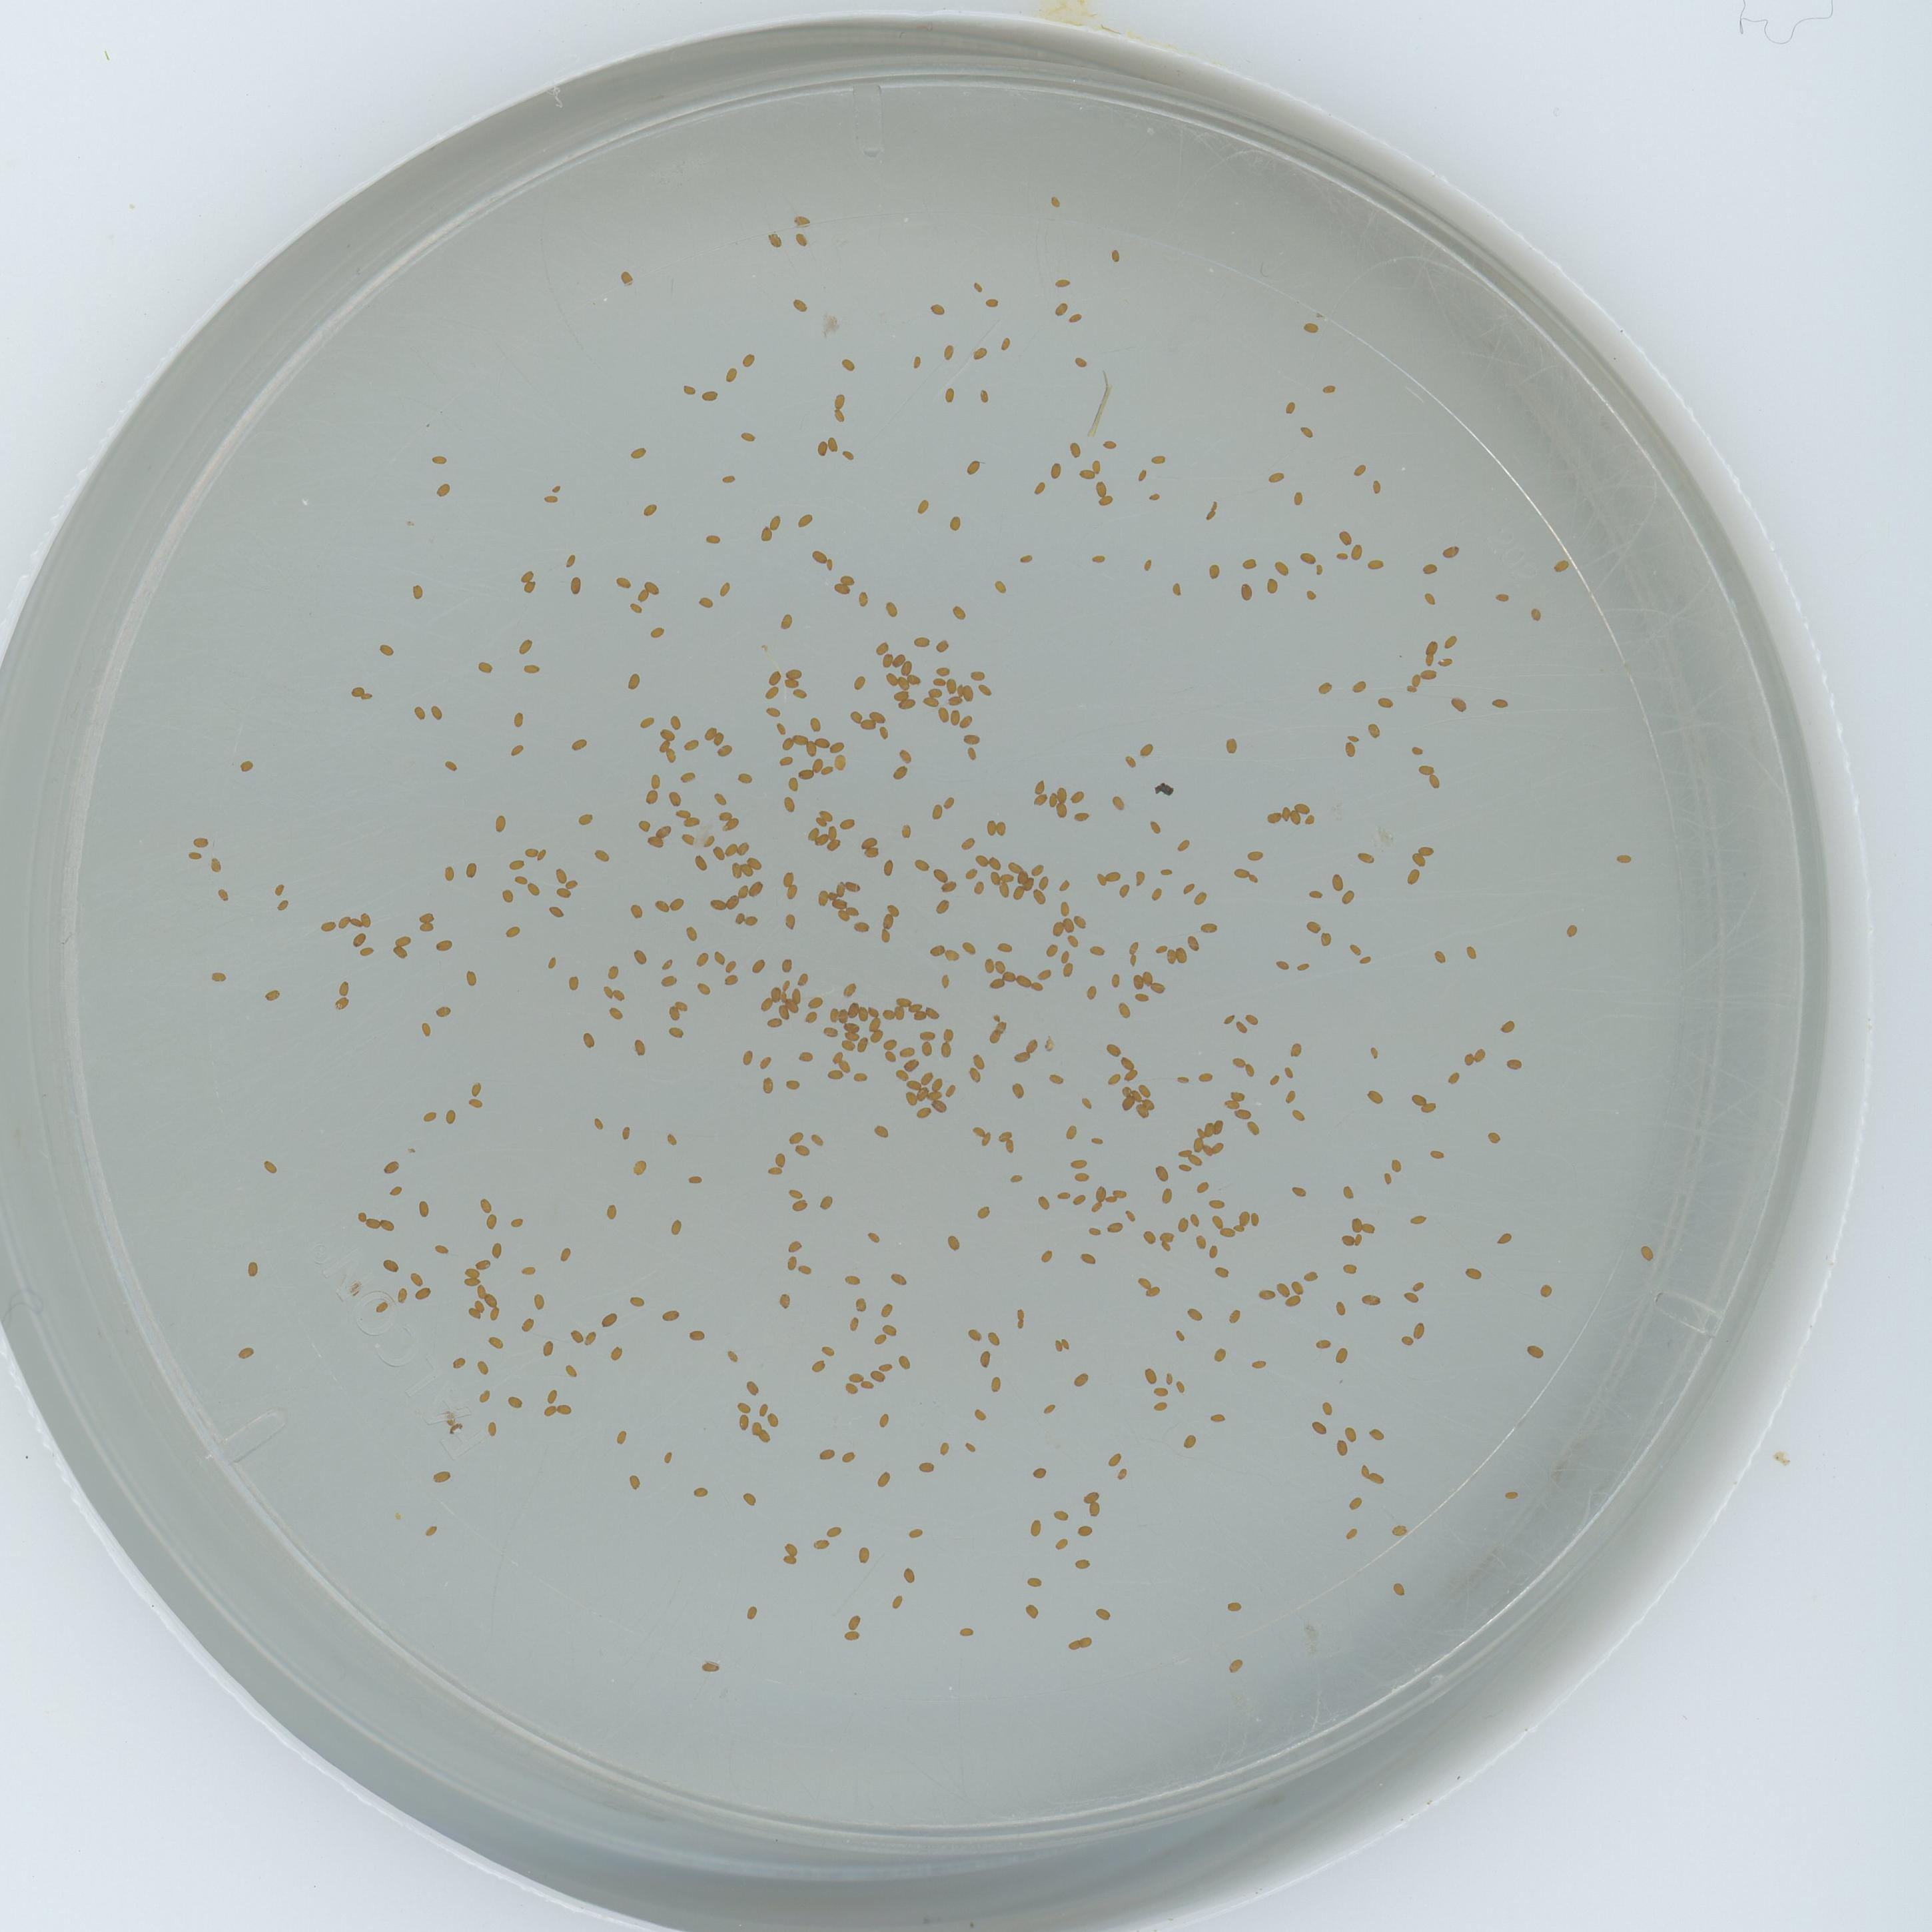seed: (847, 669, 869, 690), (1207, 1194, 1230, 1214), (748, 957, 770, 977), (1008, 1079, 1026, 1102), (600, 1307, 619, 1327), (872, 1122, 892, 1141), (817, 1192, 837, 1212), (1044, 460, 1063, 479), (1237, 582, 1256, 602), (1327, 874, 1346, 893), (971, 1053, 991, 1072), (625, 672, 646, 690), (936, 1039, 954, 1060), (1081, 1486, 1102, 1504), (1361, 1290, 1382, 1307), (1472, 1044, 1490, 1065), (1072, 1555, 1095, 1571), (796, 511, 816, 529), (637, 713, 656, 731), (566, 575, 584, 594), (350, 929, 370, 947), (759, 1076, 777, 1095), (414, 1200, 433, 1217), (662, 1304, 681, 1322), (380, 1254, 400, 1272), (945, 1233, 962, 1253), (432, 1468, 451, 1486), (961, 729, 980, 747), (1106, 971, 1123, 991), (1527, 1341, 1545, 1361), (1407, 1208, 1426, 1226), (996, 1125, 1014, 1145), (1173, 1217, 1191, 1237), (1001, 1136, 1019, 1155), (508, 856, 525, 874), (913, 856, 931, 874), (462, 862, 479, 879), (435, 934, 453, 952), (692, 855, 709, 872), (543, 954, 561, 971), (883, 600, 901, 617), (517, 637, 534, 655), (492, 814, 510, 832), (934, 897, 952, 915), (617, 269, 635, 287), (722, 957, 740, 975), (237, 1343, 255, 1361), (667, 1217, 685, 1235), (856, 1546, 874, 1564), (487, 1332, 504, 1350), (580, 1028, 598, 1046), (1030, 479, 1047, 497), (1355, 849, 1373, 867), (1136, 740, 1154, 757), (1263, 577, 1281, 594), (1304, 916, 1322, 934), (1171, 945, 1189, 962), (1562, 922, 1580, 939), (1332, 1438, 1350, 1456), (1185, 1304, 1203, 1322), (1338, 1230, 1355, 1247), (1445, 1070, 1463, 1088), (1366, 1086, 1384, 1104), (1083, 984, 1100, 1001), (977, 1348, 994, 1366), (1104, 1040, 1122, 1058), (1072, 1369, 1090, 1387), (1463, 1263, 1481, 1281), (1332, 1346, 1350, 1364), (1152, 1162, 1169, 1180), (1281, 1086, 1299, 1104), (1116, 1054, 1134, 1072), (1504, 1486, 1522, 1504), (869, 708, 888, 724), (911, 633, 931, 649), (918, 1039, 934, 1058), (890, 1269, 909, 1284), (412, 1284, 432, 1300), (899, 1566, 918, 1582), (957, 1626, 977, 1642), (1244, 847, 1263, 863), (1074, 1522, 1093, 1537), (1085, 1502, 1104, 1518), (1062, 1122, 1077, 1141), (977, 1131, 993, 1150), (1138, 1079, 1152, 1100), (616, 575, 633, 591), (435, 481, 453, 497), (947, 515, 964, 531), (681, 380, 699, 396), (630, 446, 648, 462), (593, 847, 610, 863), (504, 924, 522, 939), (931, 867, 948, 883), (669, 789, 685, 807), (704, 531, 722, 547), (642, 501, 660, 517), (812, 439, 828, 456), (418, 920, 435, 936), (476, 658, 494, 674), (518, 566, 536, 582), (897, 748, 915, 764), (697, 594, 715, 610), (679, 832, 697, 847), (807, 717, 824, 732), (879, 862, 897, 878), (628, 902, 646, 918), (212, 886, 230, 902), (840, 816, 858, 832), (786, 777, 803, 793), (191, 833, 209, 849), (724, 366, 741, 382), (430, 451, 448, 467), (736, 770, 754, 786), (508, 741, 525, 757), (395, 931, 412, 947), (810, 547, 828, 563), (932, 637, 950, 653), (793, 295, 810, 311), (782, 796, 800, 812), (499, 888, 517, 904), (548, 904, 566, 920), (892, 764, 909, 780), (571, 736, 587, 754), (357, 909, 373, 927), (632, 947, 649, 962), (679, 770, 697, 786), (409, 582, 425, 600), (656, 823, 674, 839), (418, 908, 435, 924), (768, 669, 784, 686), (840, 356, 858, 372), (764, 704, 782, 720), (683, 736, 701, 752), (833, 755, 851, 771), (878, 929, 895, 945), (766, 232, 784, 248), (862, 833, 879, 849), (642, 791, 660, 807), (787, 1125, 805, 1141), (607, 1003, 625, 1019), (876, 1470, 893, 1486), (393, 1284, 409, 1302), (840, 1449, 858, 1465), (918, 1458, 936, 1474), (626, 1474, 644, 1490), (506, 1392, 524, 1408), (807, 993, 824, 1008), (695, 980, 713, 996), (449, 1353, 467, 1369), (543, 1387, 561, 1403), (568, 1327, 586, 1343), (798, 1049, 816, 1065), (879, 1300, 895, 1318), (603, 1203, 621, 1219), (773, 1150, 791, 1166), (826, 1522, 844, 1537), (478, 1194, 494, 1212), (474, 1359, 492, 1375), (244, 1260, 262, 1276), (531, 1293, 548, 1309), (814, 1537, 832, 1553), (421, 1106, 439, 1122), (740, 1047, 755, 1065), (540, 1339, 557, 1355), (819, 1445, 837, 1461), (632, 1037, 649, 1053), (688, 1325, 706, 1341), (794, 1141, 812, 1157), (520, 1315, 536, 1332), (462, 970, 479, 985), (904, 1058, 922, 1074), (474, 1254, 492, 1270), (741, 1490, 757, 1507), (759, 1051, 775, 1069), (260, 1157, 278, 1173), (382, 1157, 400, 1173), (386, 1182, 403, 1198), (363, 1214, 380, 1230), (1267, 469, 1284, 485), (970, 879, 987, 895), (1051, 299, 1069, 315), (1552, 559, 1569, 575), (1442, 543, 1460, 559), (1339, 890, 1357, 906), (1336, 529, 1353, 545), (1299, 548, 1316, 564), (1093, 479, 1109, 497), (1200, 918, 1217, 934), (1070, 354, 1088, 370), (1405, 870, 1422, 886), (1376, 694, 1394, 709), (1191, 892, 1208, 908), (1421, 559, 1438, 575), (1364, 722, 1382, 738), (1168, 582, 1185, 598), (1288, 490, 1306, 506), (1065, 441, 1083, 456), (1293, 800, 1311, 816), (1030, 793, 1047, 809), (1449, 695, 1467, 711), (1272, 559, 1290, 575), (1088, 456, 1104, 474), (1341, 741, 1357, 759), (1417, 761, 1435, 777), (1316, 931, 1334, 947), (1493, 587, 1511, 603), (1345, 939, 1362, 955), (1067, 789, 1085, 805), (1300, 812, 1318, 828), (1056, 947, 1072, 964), (1040, 941, 1058, 957), (1184, 934, 1201, 950), (1272, 957, 1290, 973), (1286, 1040, 1304, 1056), (1212, 1263, 1230, 1279), (1028, 1463, 1046, 1479), (1024, 1573, 1042, 1589), (1389, 1582, 1407, 1598), (1368, 1426, 1385, 1442), (1309, 1419, 1327, 1435), (1069, 1155, 1086, 1171), (1537, 1283, 1555, 1299), (1387, 1155, 1405, 1171), (1077, 1249, 1095, 1265), (1115, 1001, 1132, 1017), (1157, 1187, 1175, 1203), (1037, 1247, 1054, 1263), (1302, 1267, 1320, 1283), (1046, 1069, 1063, 1085), (1104, 1451, 1122, 1467), (1343, 1525, 1361, 1541), (1343, 1426, 1361, 1442), (1346, 1495, 1364, 1511), (1093, 1605, 1111, 1621), (1226, 1307, 1244, 1323), (1141, 1366, 1157, 1384), (1152, 1384, 1168, 1401), (987, 1375, 1005, 1391), (1085, 1223, 1102, 1238), (1315, 1334, 1332, 1350), (1192, 1233, 1208, 1251), (1014, 1047, 1031, 1063), (1228, 1088, 1246, 1104), (1024, 1520, 1042, 1536), (1224, 1598, 1242, 1614), (1150, 1398, 1168, 1414), (1157, 1228, 1175, 1244), (1187, 1154, 1205, 1169), (1391, 1522, 1408, 1537), (1228, 1656, 1244, 1674), (1008, 1169, 1026, 1185), (1638, 1244, 1656, 1260), (789, 686, 809, 701), (784, 665, 803, 679), (948, 708, 962, 727), (1049, 920, 1063, 939), (955, 715, 975, 729), (1408, 1090, 1428, 1104), (1131, 973, 1145, 993), (1079, 1635, 1099, 1649), (1217, 1224, 1237, 1238), (715, 810, 736, 823), (1143, 970, 1155, 991), (929, 941, 945, 957), (669, 897, 685, 913), (722, 471, 738, 487), (929, 803, 945, 819), (899, 824, 915, 840), (349, 683, 364, 699), (915, 497, 931, 513), (428, 704, 444, 720), (764, 686, 780, 702), (826, 435, 842, 451), (934, 708, 950, 724), (648, 773, 663, 789), (637, 817, 653, 833), (709, 897, 725, 913), (379, 642, 395, 658), (780, 614, 796, 630), (950, 603, 966, 619), (649, 623, 665, 639), (318, 918, 334, 934), (876, 639, 892, 655), (886, 901, 902, 916), (669, 715, 685, 731), (856, 591, 872, 607), (745, 911, 761, 927), (750, 881, 766, 897), (929, 299, 945, 315), (941, 794, 957, 810), (410, 704, 426, 720), (885, 672, 901, 688), (816, 892, 832, 908), (441, 867, 456, 883), (207, 858, 223, 874), (832, 393, 847, 409), (941, 879, 957, 895), (524, 660, 540, 676), (780, 872, 796, 888), (552, 867, 568, 883), (579, 812, 594, 828), (510, 711, 525, 727), (646, 579, 662, 594), (849, 708, 865, 724), (522, 846, 538, 862), (939, 343, 955, 359), (186, 849, 202, 865), (748, 855, 764, 870), (635, 587, 651, 603), (271, 883, 287, 899), (786, 886, 801, 902), (878, 725, 893, 741), (794, 230, 810, 246), (945, 947, 961, 962), (237, 757, 253, 773), (778, 736, 794, 752), (702, 833, 718, 849), (941, 386, 957, 402), (883, 1049, 899, 1065), (487, 1306, 502, 1322), (925, 1005, 941, 1021), (828, 1065, 844, 1081), (853, 1069, 869, 1085), (847, 1614, 863, 1629), (759, 996, 775, 1012), (334, 980, 350, 996), (853, 1295, 869, 1311), (736, 1398, 752, 1414), (890, 1594, 906, 1610), (694, 1483, 709, 1499), (418, 1021, 433, 1037), (557, 1246, 573, 1261), (764, 1412, 780, 1428), (563, 1362, 579, 1378), (612, 985, 628, 1001), (669, 1023, 685, 1039), (745, 1378, 761, 1394), (209, 968, 225, 984), (787, 1237, 803, 1253), (897, 1355, 913, 1371), (600, 982, 616, 998), (483, 1212, 499, 1228), (469, 1079, 485, 1095), (846, 1270, 862, 1286), (409, 1270, 425, 1286), (483, 1421, 499, 1437), (380, 1215, 396, 1231), (605, 966, 621, 982), (566, 975, 582, 991), (755, 1403, 771, 1419), (867, 1228, 883, 1244), (435, 1001, 451, 1017), (584, 1330, 600, 1346), (796, 971, 812, 987), (736, 1414, 752, 1430), (541, 1403, 557, 1419), (617, 1123, 633, 1139), (786, 1254, 801, 1270), (614, 1430, 630, 1445), (609, 1345, 625, 1361), (787, 1187, 803, 1203), (702, 1658, 718, 1674), (476, 1387, 492, 1403), (777, 1292, 793, 1307), (488, 1242, 504, 1258), (632, 1157, 648, 1173), (674, 998, 690, 1014), (1368, 478, 1384, 494), (1348, 543, 1364, 559), (1368, 556, 1384, 571), (1104, 869, 1120, 885), (1352, 462, 1368, 478), (1233, 865, 1249, 881), (966, 458, 982, 474), (1088, 941, 1104, 957), (1442, 635, 1458, 651), (1306, 886, 1322, 902), (1028, 862, 1044, 878), (1431, 947, 1447, 962), (1242, 556, 1258, 571), (1316, 679, 1332, 695), (994, 883, 1010, 899), (970, 667, 985, 683), (1223, 738, 1238, 754), (996, 938, 1012, 954), (1134, 467, 1150, 483), (1146, 886, 1162, 902), (1145, 819, 1161, 835), (1352, 678, 1368, 694), (1109, 796, 1125, 812), (1131, 870, 1146, 886), (987, 855, 1003, 870), (1426, 775, 1442, 791), (1106, 248, 1122, 264), (1421, 589, 1437, 605), (1053, 787, 1069, 803), (1053, 879, 1069, 895), (1054, 901, 1070, 916), (1617, 851, 1633, 867), (1463, 943, 1479, 959), (1194, 1178, 1210, 1194), (1412, 1320, 1428, 1336), (1023, 1603, 1039, 1619), (1341, 1260, 1357, 1276), (1053, 1506, 1069, 1522), (1403, 1290, 1419, 1306), (1023, 1037, 1039, 1053), (1123, 1065, 1139, 1081), (1208, 1410, 1224, 1426), (1106, 1069, 1122, 1085), (1212, 1346, 1228, 1362), (1500, 1017, 1516, 1033), (1136, 1272, 1152, 1288), (1208, 1214, 1224, 1230), (1290, 1106, 1306, 1122), (1274, 1279, 1290, 1295), (1332, 1300, 1348, 1316), (1290, 1182, 1306, 1198), (1486, 1129, 1502, 1145), (1070, 1191, 1086, 1207), (1249, 1355, 1265, 1371), (968, 1067, 984, 1083), (1265, 1070, 1281, 1086), (975, 1203, 991, 1219), (1410, 1276, 1426, 1292), (966, 1325, 982, 1341), (1506, 1053, 1522, 1069), (1378, 1169, 1394, 1185), (1230, 1053, 1246, 1069), (1120, 1207, 1136, 1223), (1212, 1120, 1228, 1136), (1180, 1433, 1196, 1449), (987, 1030, 1003, 1046), (1012, 1304, 1028, 1320), (1012, 1316, 1028, 1332), (1120, 1099, 1136, 1115), (869, 1030, 885, 1046), (1047, 195, 1063, 211), (511, 874, 529, 888), (525, 885, 543, 899), (711, 791, 729, 805), (391, 945, 409, 959), (844, 879, 862, 893), (830, 740, 847, 754), (855, 920, 872, 934), (694, 950, 711, 964), (835, 582, 853, 596), (835, 909, 853, 924), (357, 943, 375, 957), (780, 954, 794, 971), (724, 819, 741, 833), (784, 1077, 801, 1092), (881, 1323, 899, 1338), (803, 1008, 821, 1023), (899, 1042, 916, 1056), (855, 1037, 869, 1054), (819, 1343, 837, 1357), (844, 1629, 862, 1644), (557, 1401, 575, 1415), (872, 1332, 890, 1346), (628, 1293, 646, 1307), (791, 1198, 809, 1212), (878, 1361, 895, 1375), (686, 1173, 704, 1187), (766, 1014, 784, 1028), (920, 1069, 934, 1086), (860, 1376, 878, 1391), (464, 1265, 481, 1279), (881, 1005, 895, 1023), (1320, 382, 1338, 396), (1030, 892, 1047, 906), (1205, 564, 1223, 579), (1120, 755, 1138, 770), (1178, 881, 1196, 895), (1410, 855, 1428, 869), (1233, 1106, 1251, 1120), (1318, 1401, 1336, 1415), (1196, 1069, 1214, 1083), (1203, 1244, 1221, 1258), (1428, 1146, 1445, 1161), (1132, 989, 1150, 1003), (1072, 1168, 1090, 1182), (1368, 1470, 1385, 1484), (1284, 1293, 1302, 1307), (1104, 1219, 1122, 1233), (1495, 1230, 1513, 1244), (1148, 980, 1166, 994), (1063, 1638, 1081, 1652), (929, 674, 947, 688), (846, 1001, 858, 1021), (925, 686, 945, 699), (740, 430, 755, 444), (901, 660, 916, 674), (768, 515, 784, 529), (685, 925, 701, 939), (793, 731, 809, 745), (738, 842, 754, 856), (725, 897, 741, 911), (563, 554, 579, 568), (881, 915, 897, 929), (865, 846, 881, 860), (833, 409, 849, 423), (702, 387, 718, 402), (276, 897, 292, 911), (663, 750, 679, 764), (816, 734, 832, 748), (741, 352, 757, 366), (334, 915, 350, 929), (832, 895, 847, 909), (801, 768, 817, 782), (660, 727, 676, 741), (713, 950, 729, 964), (782, 915, 798, 929), (653, 899, 669, 913), (522, 582, 538, 596), (718, 745, 734, 759), (709, 847, 725, 862), (628, 602, 644, 616), (717, 582, 732, 596), (442, 757, 458, 771), (879, 653, 895, 667), (780, 755, 794, 771), (775, 722, 791, 736), (794, 212, 810, 226), (731, 911, 747, 925), (847, 904, 863, 918), (729, 863, 743, 879), (658, 957, 674, 971), (724, 973, 740, 987), (823, 1024, 839, 1039), (878, 1414, 893, 1428), (842, 982, 858, 996), (812, 1357, 828, 1371), (333, 996, 349, 1010), (934, 1099, 948, 1115), (520, 1263, 536, 1277), (916, 1106, 932, 1120), (945, 1083, 959, 1099), (467, 1095, 483, 1109), (830, 1049, 846, 1063), (893, 1065, 909, 1079), (442, 1108, 458, 1122), (433, 1240, 449, 1254), (893, 996, 909, 1010), (510, 1214, 525, 1228), (938, 1440, 952, 1456), (662, 1449, 678, 1463), (796, 1261, 812, 1276), (373, 1299, 389, 1313), (768, 985, 782, 1001), (589, 1115, 605, 1129), (264, 987, 280, 1001), (847, 1371, 863, 1385), (883, 1035, 899, 1049), (667, 1005, 683, 1019), (662, 973, 678, 987), (665, 1131, 679, 1146), (725, 1348, 741, 1362), (423, 1523, 439, 1537), (869, 1368, 885, 1382), (932, 1074, 947, 1090), (908, 1525, 924, 1539), (847, 1316, 863, 1330), (354, 1207, 368, 1223), (483, 1290, 499, 1304), (777, 1005, 791, 1021), (911, 1008, 927, 1023), (971, 853, 987, 867), (1304, 587, 1320, 602), (1281, 400, 1297, 414), (1072, 913, 1086, 929), (971, 345, 987, 359), (1302, 318, 1318, 333), (1116, 885, 1132, 899), (1424, 639, 1438, 655), (1175, 839, 1191, 853), (1030, 780, 1046, 794), (1063, 934, 1079, 948), (998, 336, 1014, 350), (1311, 564, 1327, 579), (984, 295, 1000, 310), (1072, 810, 1088, 824), (1077, 467, 1093, 481), (1148, 451, 1164, 465), (1054, 803, 1069, 819), (1065, 310, 1081, 324), (1417, 844, 1433, 858), (1000, 870, 1016, 885), (996, 821, 1010, 837), (1357, 952, 1373, 966), (1297, 425, 1313, 439), (1100, 437, 1116, 451), (1491, 695, 1507, 709), (1290, 810, 1304, 826), (1265, 810, 1281, 824), (993, 579, 1008, 593), (1054, 274, 1069, 290), (977, 387, 993, 402), (1092, 872, 1106, 888), (966, 747, 980, 763), (1421, 667, 1437, 681), (1152, 941, 1168, 955), (982, 819, 996, 835), (1332, 548, 1348, 563), (1422, 653, 1437, 669), (1139, 557, 1155, 571), (1007, 858, 1023, 872), (1125, 939, 1141, 954), (1527, 607, 1543, 621), (1203, 513, 1219, 527), (1290, 1279, 1306, 1293), (1051, 1536, 1067, 1550), (1233, 1021, 1249, 1035), (1221, 1012, 1237, 1026), (971, 1407, 987, 1421), (1244, 1120, 1260, 1134), (1054, 1187, 1070, 1201), (1141, 1230, 1157, 1244), (1258, 1286, 1274, 1300), (1115, 1465, 1129, 1481), (1361, 1219, 1376, 1233), (1339, 1185, 1355, 1200), (1187, 1212, 1203, 1226), (985, 1330, 1001, 1345), (1077, 1095, 1093, 1109), (1145, 1284, 1161, 1299), (1040, 1401, 1054, 1417), (1171, 1327, 1185, 1343), (1035, 966, 1051, 980), (1092, 1185, 1106, 1201), (971, 1122, 985, 1138), (1028, 978, 1044, 993), (1281, 1063, 1295, 1079), (1088, 1200, 1104, 1214), (1175, 1070, 1191, 1085), (1348, 1215, 1362, 1231), (1419, 1100, 1435, 1115), (1175, 1145, 1191, 1159), (1191, 1136, 1205, 1152), (1352, 1233, 1366, 1249), (1127, 1088, 1143, 1102), (1062, 1336, 1076, 1352), (1134, 1104, 1150, 1118), (1120, 1085, 1134, 1100), (1090, 552, 1106, 566), (1366, 1046, 1382, 1060), (554, 888, 571, 901), (839, 575, 856, 587), (685, 817, 702, 830), (674, 807, 692, 819), (922, 695, 939, 708), (893, 690, 911, 702), (844, 1384, 862, 1396), (826, 1007, 839, 1024), (840, 1031, 858, 1044), (1408, 745, 1426, 757), (1037, 1194, 1049, 1212), (987, 977, 1005, 989), (1173, 1161, 1191, 1173), (840, 1042, 858, 1054), (844, 1023, 862, 1035), (837, 879, 847, 899), (978, 955, 998, 966), (1203, 1120, 1214, 1139), (803, 743, 817, 757), (842, 448, 856, 462), (736, 885, 750, 899), (759, 527, 773, 541), (536, 849, 550, 863), (713, 731, 727, 745), (892, 653, 906, 667), (945, 679, 959, 694), (702, 725, 717, 740), (821, 764, 835, 778), (909, 354, 924, 368), (741, 863, 755, 878), (819, 809, 833, 823), (745, 1605, 759, 1619), (840, 1039, 855, 1053), (904, 1092, 918, 1106), (810, 1132, 824, 1146), (784, 1539, 798, 1553), (920, 1028, 934, 1042), (941, 1026, 955, 1040), (349, 1281, 363, 1295), (750, 1421, 764, 1435), (938, 973, 952, 987), (787, 1001, 801, 1016), (465, 1306, 479, 1320), (1037, 876, 1051, 890), (978, 683, 993, 697), (1157, 865, 1171, 879), (985, 872, 1000, 886), (1046, 793, 1060, 807), (1244, 1012, 1258, 1026), (1461, 1051, 1476, 1065), (1399, 1334, 1414, 1348), (1162, 1371, 1177, 1385), (1173, 1378, 1187, 1392), (1357, 1463, 1371, 1477), (1242, 1063, 1256, 1077), (1111, 1184, 1125, 1198), (1141, 1097, 1155, 1111), (1047, 1338, 1062, 1352), (1233, 1223, 1247, 1237), (1407, 683, 1421, 697), (934, 665, 950, 678), (543, 494, 559, 506), (648, 837, 663, 849), (906, 674, 922, 686), (816, 833, 832, 846), (821, 559, 837, 571), (826, 842, 842, 855), (810, 759, 826, 771), (784, 678, 800, 690), (782, 1553, 798, 1566), (904, 1077, 920, 1090), (789, 987, 801, 1003), (759, 1428, 771, 1444), (916, 1086, 929, 1102), (1010, 888, 1026, 901), (1097, 495, 1113, 508), (1062, 916, 1074, 932), (1279, 805, 1292, 821), (1345, 732, 1361, 745), (1162, 947, 1175, 962), (1017, 552, 1033, 564), (966, 869, 978, 885), (1014, 973, 1030, 985), (1212, 1139, 1224, 1155), (1247, 1212, 1263, 1224), (1088, 1134, 1104, 1146), (1194, 1125, 1207, 1141), (909, 1001, 925, 1014), (893, 1007, 906, 1023), (994, 1021, 1007, 1037), (860, 720, 878, 731), (897, 699, 915, 709), (858, 1005, 869, 1023), (1293, 961, 1311, 971), (837, 1007, 847, 1024), (947, 695, 961, 708), (725, 842, 738, 856), (656, 741, 671, 754), (566, 878, 580, 890), (349, 915, 361, 929), (805, 830, 819, 842), (897, 678, 911, 690), (359, 690, 373, 702), (768, 1164, 782, 1177), (474, 1283, 488, 1295), (839, 1060, 853, 1072), (472, 1299, 487, 1311), (869, 1019, 883, 1031), (1127, 950, 1139, 964), (1247, 874, 1261, 886), (1408, 672, 1422, 685), (1438, 655, 1453, 667), (966, 1438, 978, 1453), (1102, 1192, 1116, 1205), (1159, 1240, 1173, 1253), (1016, 870, 1028, 885), (970, 281, 984, 294), (962, 685, 973, 701), (966, 939, 977, 955), (1238, 1208, 1249, 1224), (464, 1277, 479, 1288), (1001, 970, 1014, 982), (1023, 878, 1035, 890), (828, 826, 839, 840), (867, 1005, 878, 1019), (966, 837, 977, 851), (1060, 966, 1074, 977), (1224, 1099, 1238, 1109), (550, 483, 564, 494), (955, 683, 964, 699), (782, 975, 791, 991), (987, 966, 1003, 975), (929, 1090, 941, 1100), (1203, 1145, 1214, 1157), (1146, 492, 1161, 501), (780, 993, 789, 1005), (826, 892, 839, 901), (816, 817, 826, 826)
